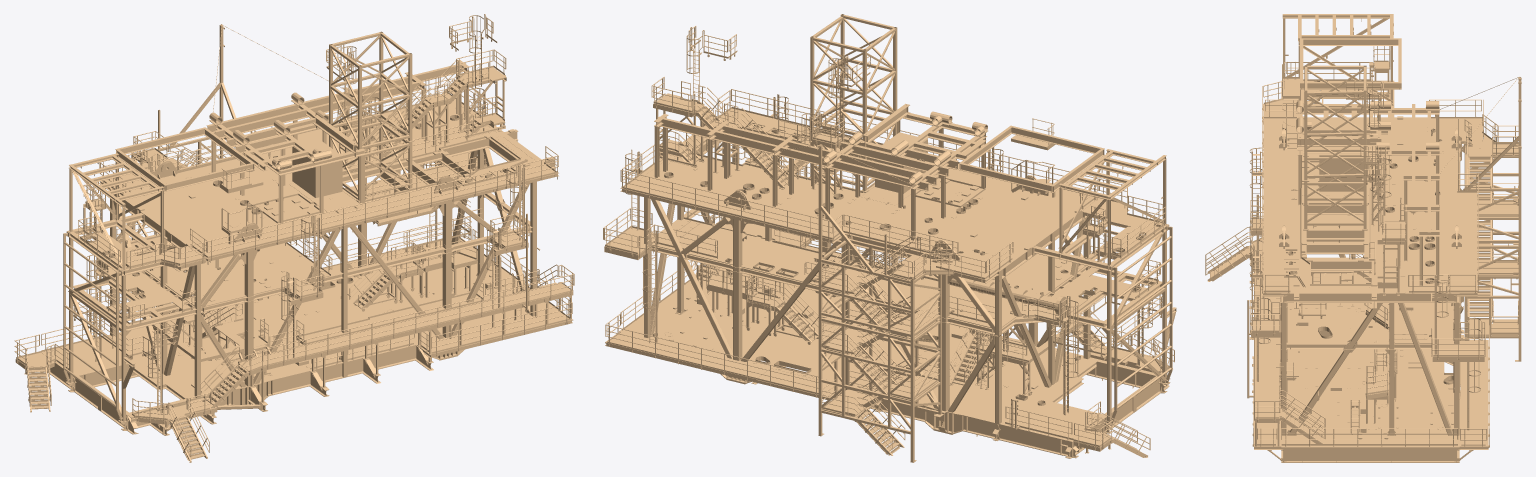
The model's file is HuldraDemo.glb.
3 views of the same model, side by side, from view 1: azimuth 30°, elevation 25°; view 2: azimuth 150°, elevation 25°; view 3: azimuth 270°, elevation 25° (orthographic). The views are drawn at different scales.
Parts seen in each view (by area): view 1: node0; view 2: node0; view 3: node0.
Boxes of the visible parts, box(x1,y1,x2,y2) form: node0: box(14, 14, 574, 462); node0: box(603, 14, 1176, 462); node0: box(1205, 14, 1521, 462).
Bounding box in the file's own units: 32.63 × 20.19 × 18.29.
